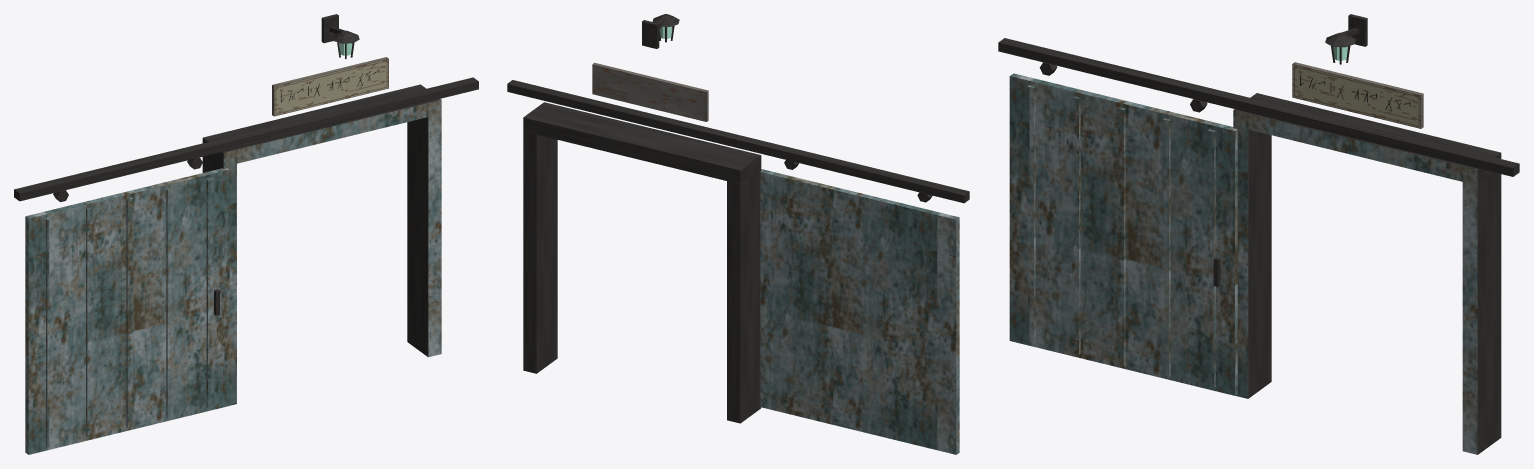
Rendered from ph_door.fbx.
3 views of the same model, side by side, from view 1: azimuth 30°, elevation 25°; view 2: azimuth 150°, elevation 25°; view 3: azimuth 330°, elevation 25° (orthographic). The views are drawn at different scales.
Visible parts, largest first — view 1: ph_door; view 2: ph_door; view 3: ph_door.
Boxes of the visible parts, box(x1,y1,x2,y2) form: ph_door: box(14, 14, 478, 454); ph_door: box(507, 14, 969, 454); ph_door: box(998, 14, 1519, 454).
Size of the model in its own units: 4.8 by 3.62 by 0.75.
Materials: 3 (3 with a texture image).
